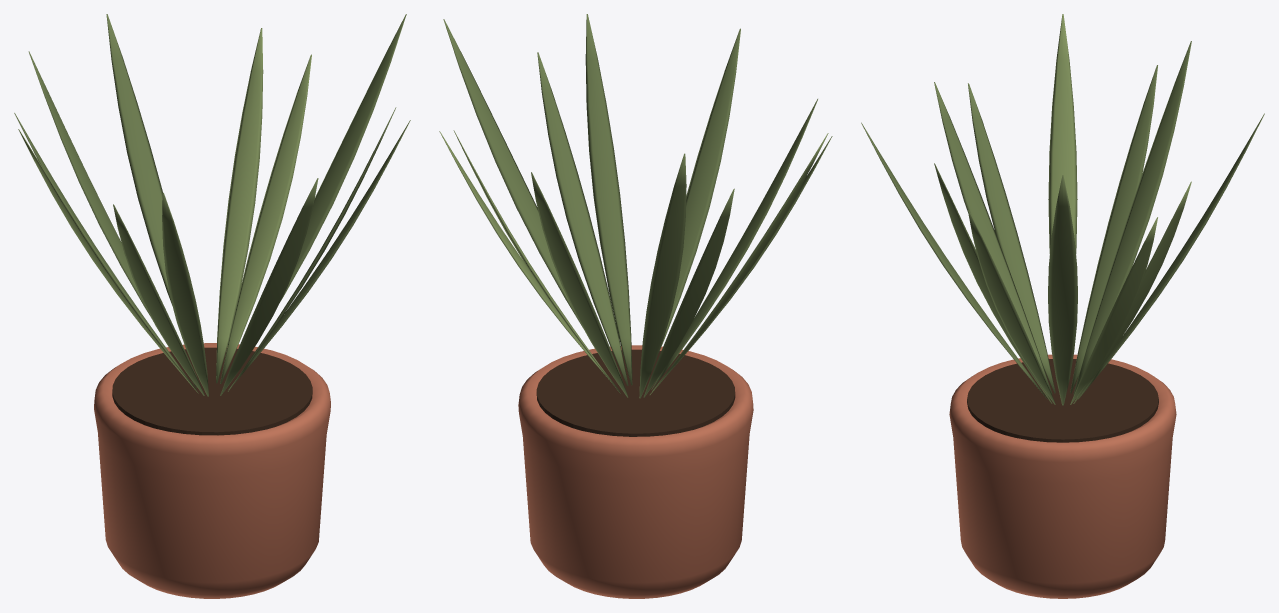
The model's file is restroom_snake_plant.fbx.
The picture shows the model from 3 angles, left to right: view 1: azimuth 30°, elevation 25°; view 2: azimuth 150°, elevation 25°; view 3: azimuth 270°, elevation 25°; orthographic projection. The views are drawn at different scales.
Visible parts, largest first — view 1: restroom_snake_plant; view 2: restroom_snake_plant; view 3: restroom_snake_plant.
Part boxes in pixels (x1=…): restroom_snake_plant: x1=14, y1=14, x2=410, y2=598; restroom_snake_plant: x1=439, y1=14, x2=832, y2=598; restroom_snake_plant: x1=861, y1=14, x2=1264, y2=598.
Bounding box in the file's own units: 0.3397 × 0.42 × 0.3201.
